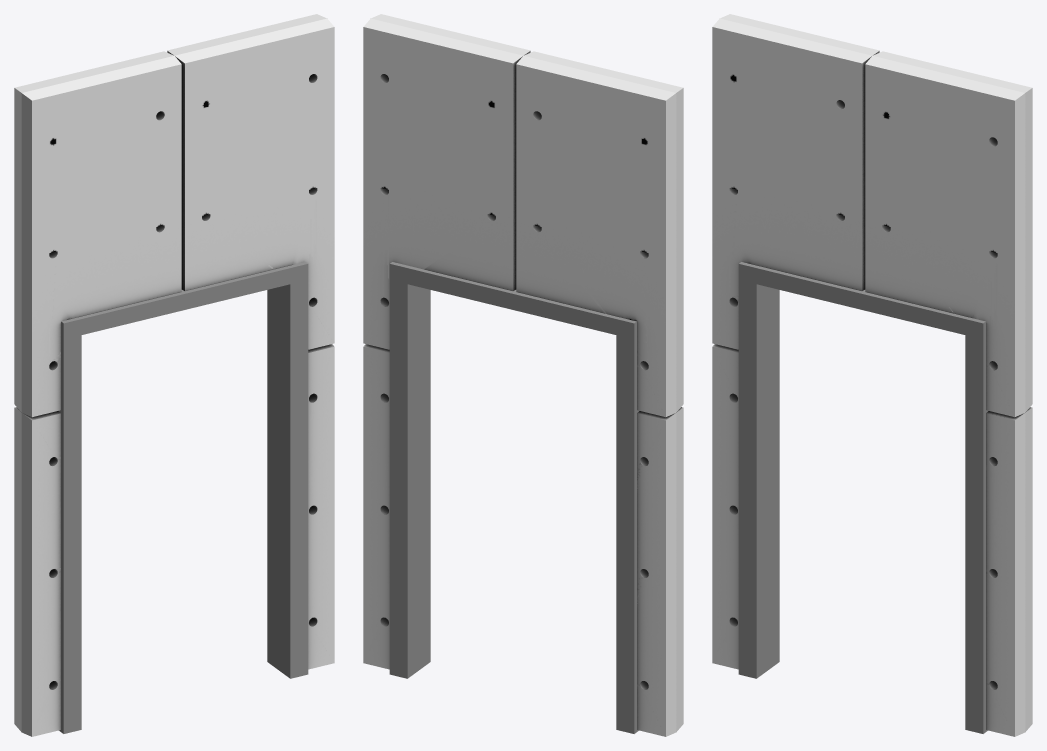
File: ConcreteWallDoor.fbx
The picture shows the model from 3 angles, left to right: view 1: azimuth 30°, elevation 25°; view 2: azimuth 150°, elevation 25°; view 3: azimuth 330°, elevation 25°; orthographic projection.
Visible parts, largest first — view 1: ConcreteWall; view 2: ConcreteWall; view 3: ConcreteWall.
Boxes of the visible parts, x1,y1,x2,y2 form: ConcreteWall: [14, 14, 334, 736]; ConcreteWall: [363, 14, 683, 736]; ConcreteWall: [712, 14, 1032, 736].
Size of what is drawn, in the model's own units: 200 by 400 by 26.07.
